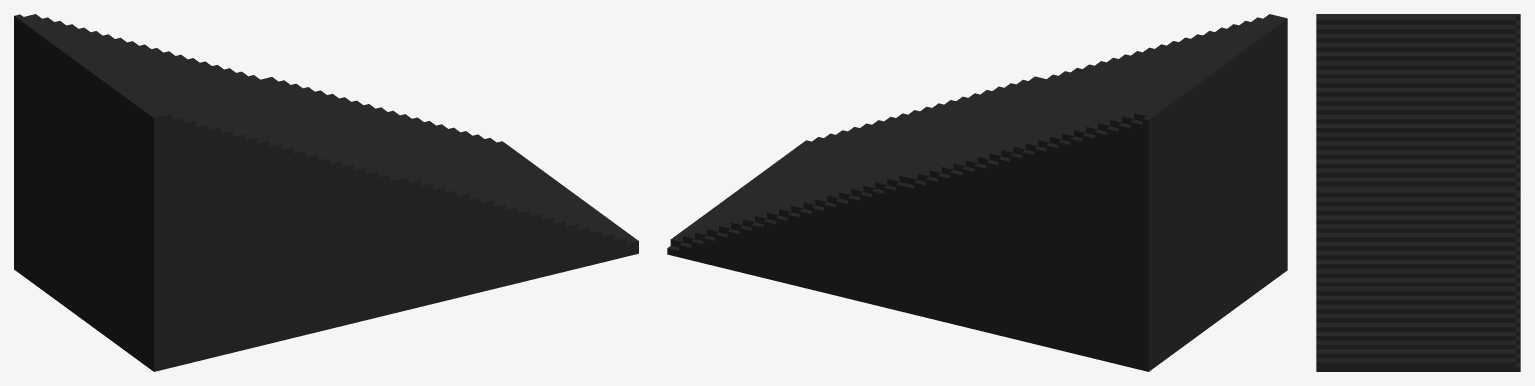
File: ramp.obj
3 renders of one model, left to right at view 1: azimuth 30°, elevation 25°; view 2: azimuth 150°, elevation 25°; view 3: azimuth 270°, elevation 25°, orthographic. The views are drawn at different scales.
Visible parts, largest first — view 1: ramp; view 2: ramp; view 3: ramp.
Boxes of the visible parts, x1=… form: ramp: x1=14, y1=14, x2=638, y2=371; ramp: x1=667, y1=14, x2=1287, y2=371; ramp: x1=1316, y1=14, x2=1520, y2=371.
Bounding box in the file's own units: 80 × 40 × 40.
Materials: 1 (1 with a texture image).
